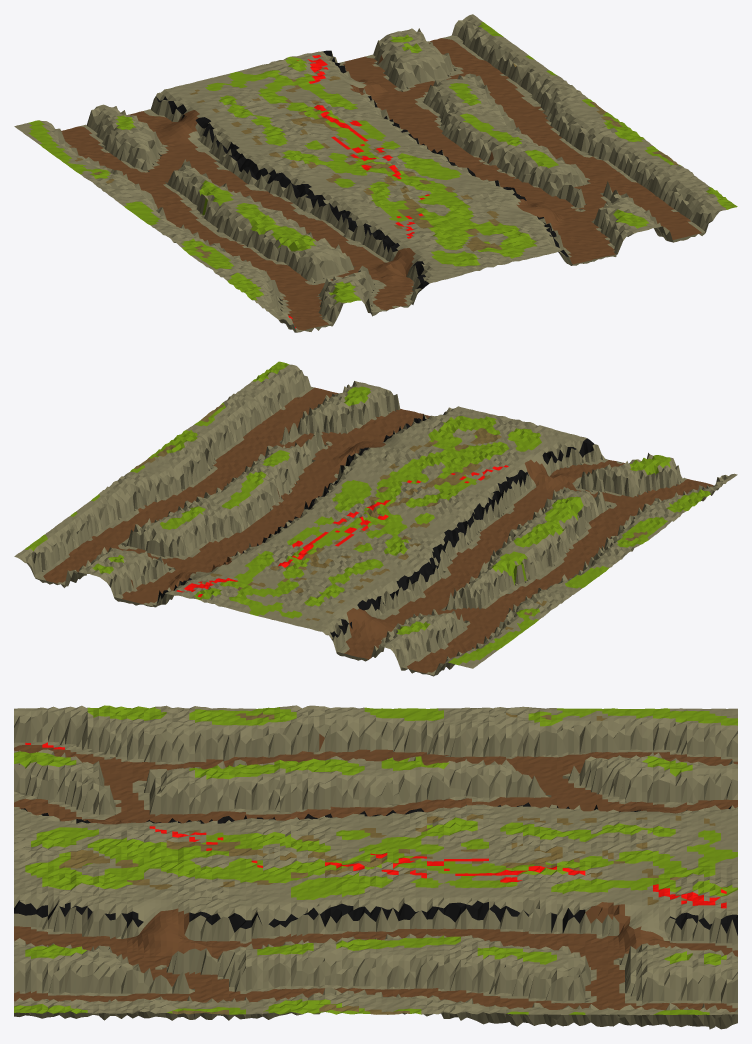
File: World3.glb
3 views of the same model, one above another, from view 1: azimuth 30°, elevation 25°; view 2: azimuth 150°, elevation 25°; view 3: azimuth 270°, elevation 25° (orthographic). The views are drawn at different scales.
Parts seen in each view (by area): view 1: Plane; view 2: Plane; view 3: Plane.
Part boxes in pixels (left/top/right/bottom): Plane: left=14, top=14, right=737, bottom=332; Plane: left=14, top=361, right=737, bottom=676; Plane: left=14, top=705, right=737, bottom=1029.
Bounding box in the file's own units: 400 × 20.04 × 400.
